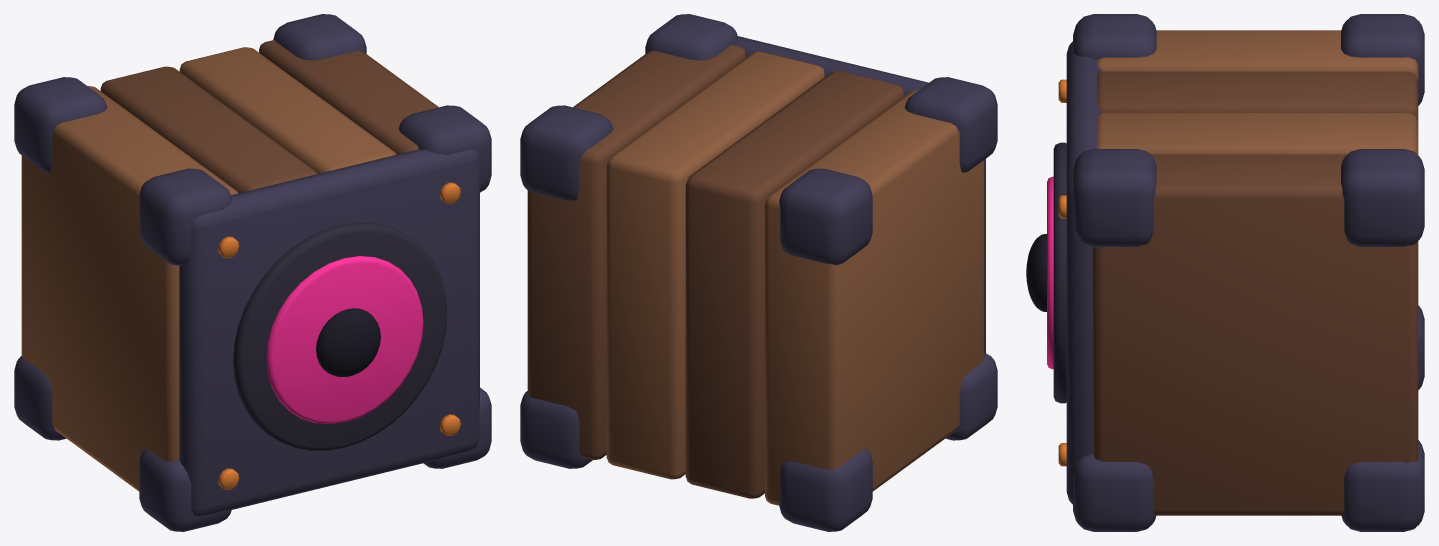
File: Speaker_T1.fbx
The picture shows the model from 3 angles, left to right: view 1: azimuth 30°, elevation 25°; view 2: azimuth 150°, elevation 25°; view 3: azimuth 270°, elevation 25°; orthographic projection. The views are drawn at different scales.
Visible parts, largest first — view 1: Body, Wood, Wooddark, Surround, Magenta, Cone, Copper; view 2: Wood, Wooddark, Body; view 3: Wooddark, Body, Wood, Surround, Magenta, Cone, Copper.
Boxes of the visible parts, x1=… form: Body: x1=14, y1=14, x2=491, y2=531; Wood: x1=21, y1=47, x2=396, y2=491; Wooddark: x1=100, y1=40, x2=438, y2=193; Surround: x1=233, y1=222, x2=447, y2=450; Magenta: x1=266, y1=256, x2=423, y2=424; Cone: x1=316, y1=308, x2=380, y2=376; Copper: x1=218, y1=182, x2=460, y2=489; Wood: x1=606, y1=51, x2=984, y2=505; Wooddark: x1=527, y1=45, x2=903, y2=498; Body: x1=520, y1=14, x2=997, y2=531; Wooddark: x1=1092, y1=71, x2=1418, y2=515; Body: x1=1066, y1=14, x2=1424, y2=531; Wood: x1=1097, y1=30, x2=1418, y2=154; Surround: x1=1053, y1=142, x2=1066, y2=403; Magenta: x1=1047, y1=176, x2=1053, y2=369; Cone: x1=1026, y1=234, x2=1046, y2=311; Copper: x1=1058, y1=79, x2=1066, y2=466.
Bounding box in the file's own units: 3.1 × 3.06 × 3.06.
